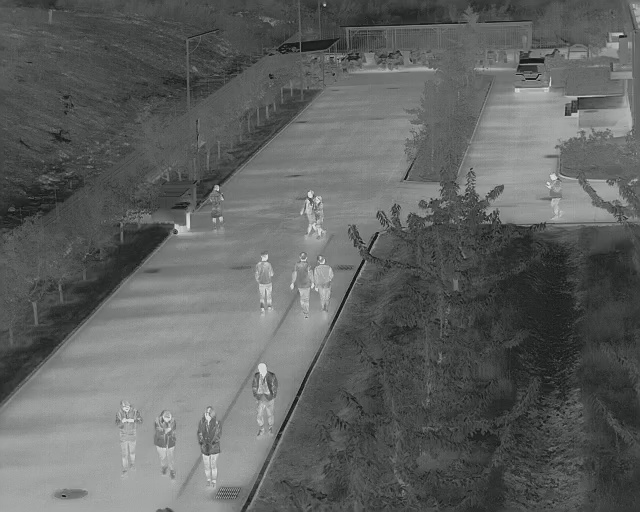person: (113, 394, 145, 477), (196, 405, 223, 491), (153, 404, 181, 484), (252, 361, 278, 440), (288, 250, 314, 320), (255, 249, 276, 316), (313, 253, 334, 318), (544, 172, 565, 220), (298, 188, 316, 237), (208, 182, 225, 233), (313, 195, 327, 239)
vehicle: (513, 58, 554, 95)
